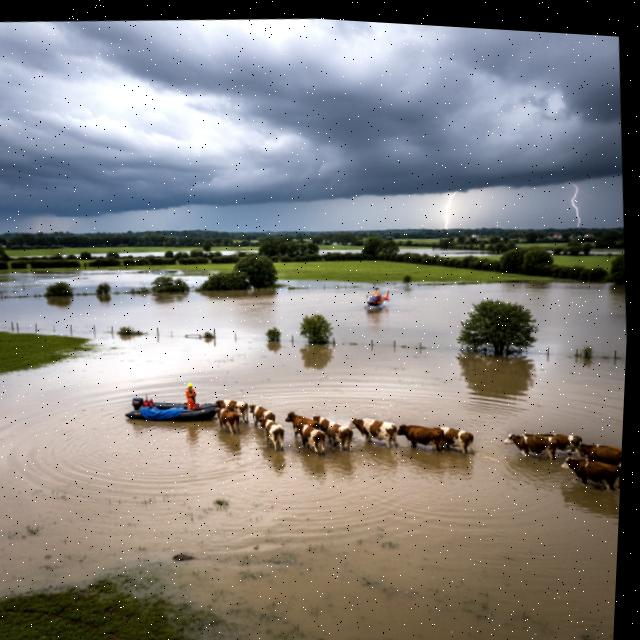cow: (558, 449, 622, 497), (342, 407, 402, 454), (306, 406, 358, 459), (392, 415, 449, 461), (497, 427, 559, 468), (529, 422, 588, 464), (427, 417, 480, 462), (571, 434, 622, 475), (208, 393, 252, 430), (253, 413, 290, 456), (292, 416, 329, 459), (283, 407, 323, 442), (244, 396, 278, 435), (210, 403, 244, 436)
rescuer: (180, 377, 200, 412)
